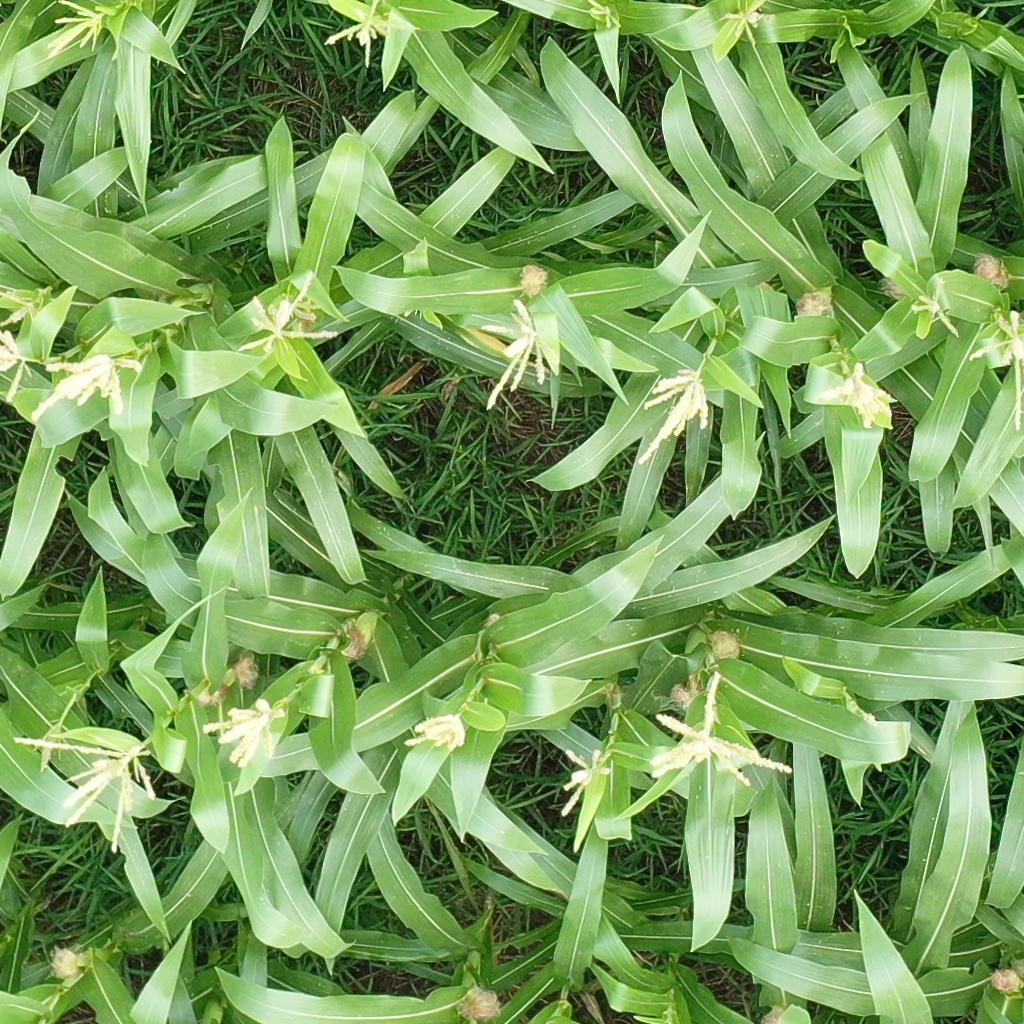Tassel: (15, 734, 157, 854), (648, 674, 794, 789), (477, 299, 561, 412), (635, 368, 711, 465), (38, 359, 140, 426), (321, 1, 419, 70), (969, 311, 1024, 431), (238, 294, 340, 356), (196, 699, 285, 768), (813, 361, 895, 431), (43, 1, 107, 59), (563, 749, 612, 818), (912, 279, 959, 339), (404, 711, 470, 753), (1, 331, 36, 402), (281, 272, 325, 326), (724, 1, 766, 54), (32, 719, 64, 773), (1, 288, 39, 327), (587, 1, 623, 27), (849, 698, 879, 728)
